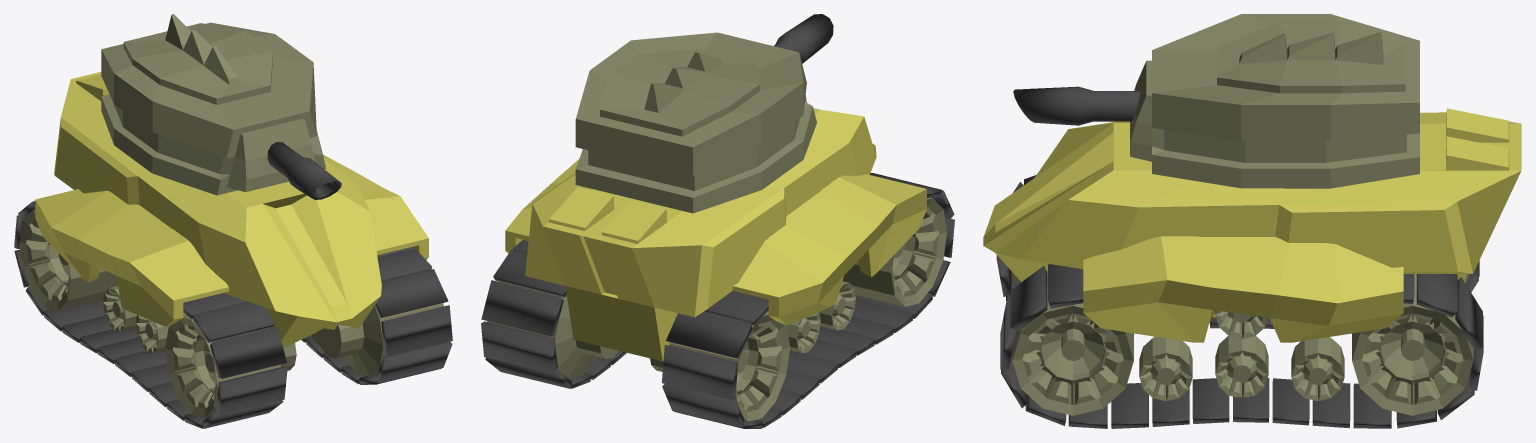
The model's file is NoCurves.fbx.
3 renders of one model, left to right at view 1: azimuth 30°, elevation 25°; view 2: azimuth 150°, elevation 25°; view 3: azimuth 270°, elevation 25°, orthographic. The views are drawn at different scales.
Parts seen in each view (by area): view 1: Cube_003, Body_001, RightTrack, Cube_001, Cylinder_004, LeftTrack, Cube_005, Cylinder_001; view 2: Cube_003, Body_001, RightTrack, Cube_001, Cylinder_004, LeftTrack, Cylinder_001, Cube_005; view 3: Cube_003, Body_001, Cylinder_001, Cube_005, LeftTrack, RightTrack.
Part boxes in pixels (bbox=[...]): Cube_003: bbox=[101, 14, 341, 199]; Body_001: bbox=[54, 72, 381, 348]; RightTrack: bbox=[14, 201, 287, 428]; Cube_001: bbox=[35, 189, 229, 326]; Cylinder_004: bbox=[19, 209, 296, 418]; LeftTrack: bbox=[301, 247, 452, 384]; Cube_005: bbox=[323, 154, 428, 259]; Cylinder_001: bbox=[311, 303, 443, 376]; Cube_003: bbox=[575, 14, 833, 213]; Body_001: bbox=[525, 108, 876, 361]; RightTrack: bbox=[662, 173, 954, 428]; Cube_001: bbox=[732, 174, 926, 325]; Cylinder_004: bbox=[650, 197, 946, 420]; LeftTrack: bbox=[481, 240, 626, 388]; Cylinder_001: bbox=[487, 281, 618, 378]; Cube_005: bbox=[505, 159, 579, 253]; Cube_003: bbox=[1013, 14, 1419, 188]; Body_001: bbox=[983, 108, 1521, 317]; Cylinder_001: bbox=[1012, 274, 1473, 415]; Cube_005: bbox=[1083, 236, 1403, 342]; LeftTrack: bbox=[1000, 264, 1483, 428]; RightTrack: bbox=[996, 175, 1479, 333].
Size of the model in its own units: 7.04 by 6.86 by 10.1.
